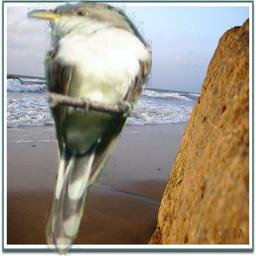Cuckoo: (27, 0, 152, 256)
